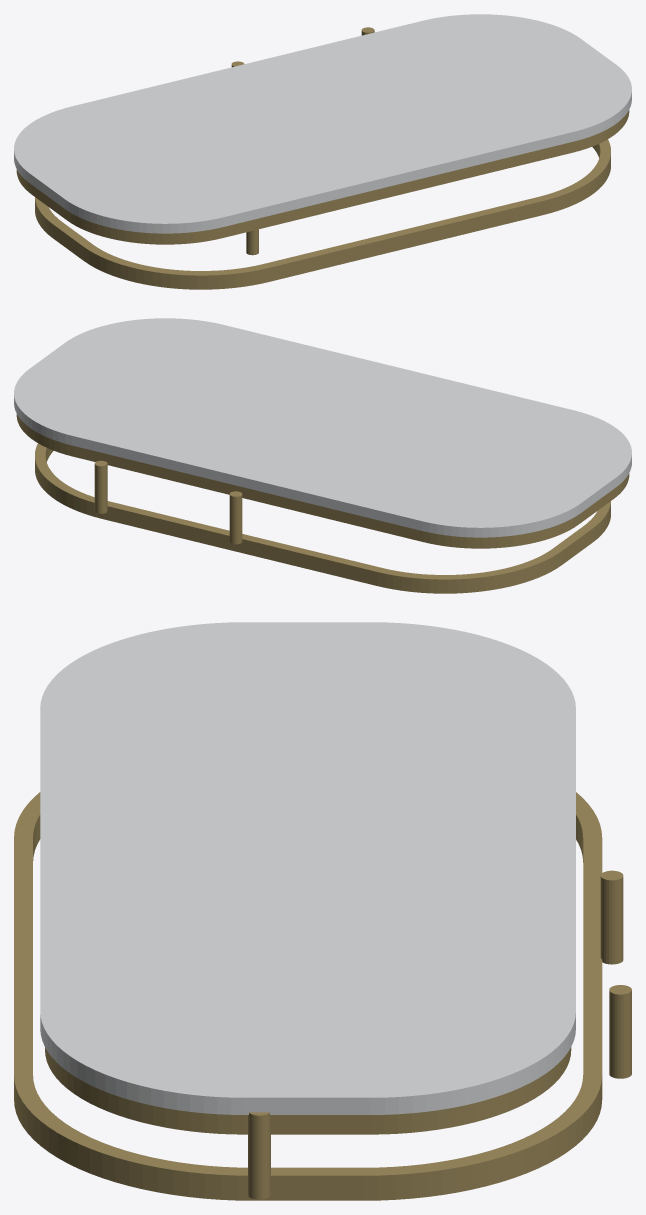
The picture shows the model from 3 angles, top to bottom: view 1: azimuth 30°, elevation 25°; view 2: azimuth 150°, elevation 25°; view 3: azimuth 270°, elevation 25°; orthographic projection. The views are drawn at different scales.
Visible parts, largest first — view 1: part0, part1; view 2: part0, part1; view 3: part0, part1.
Part boxes in pixels (x1,y1,x2,y2): part0: (14, 14, 631, 233); part1: (16, 27, 629, 289); part0: (14, 318, 631, 537); part1: (16, 414, 629, 593); part0: (40, 622, 575, 1114); part1: (14, 792, 631, 1200).
Bounding box in the file's own units: 119 × 14.06 × 64.96.
